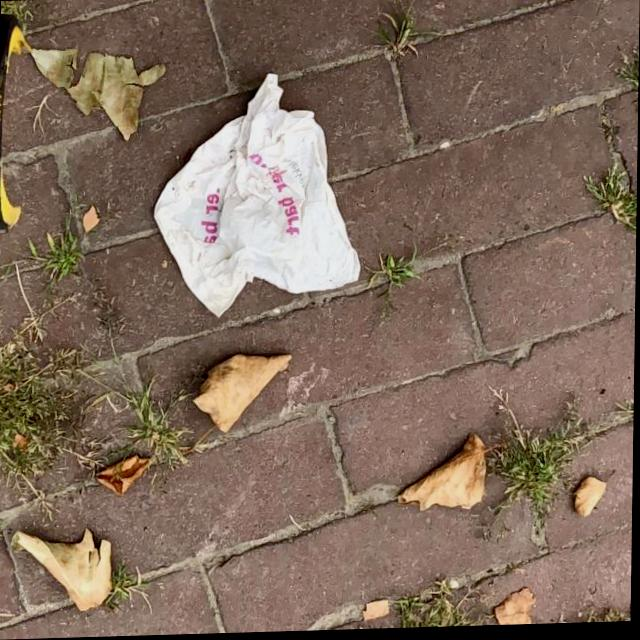Paper: (149, 71, 365, 322)
